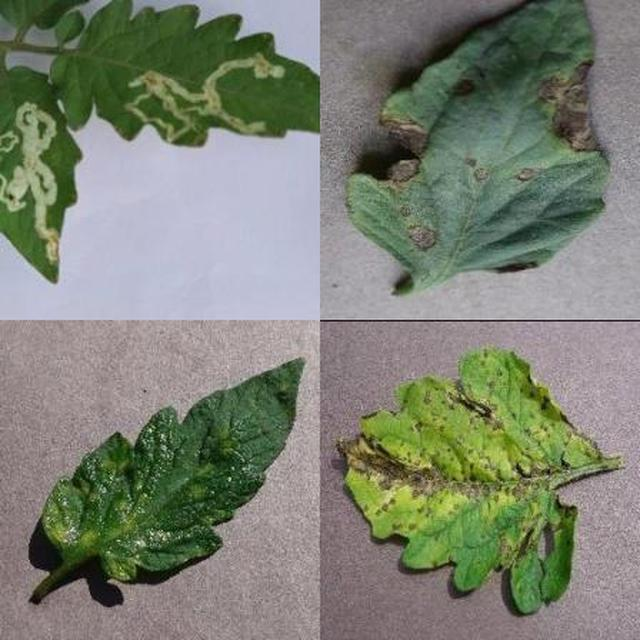Leaf Miner: (59, 105, 640, 640)
